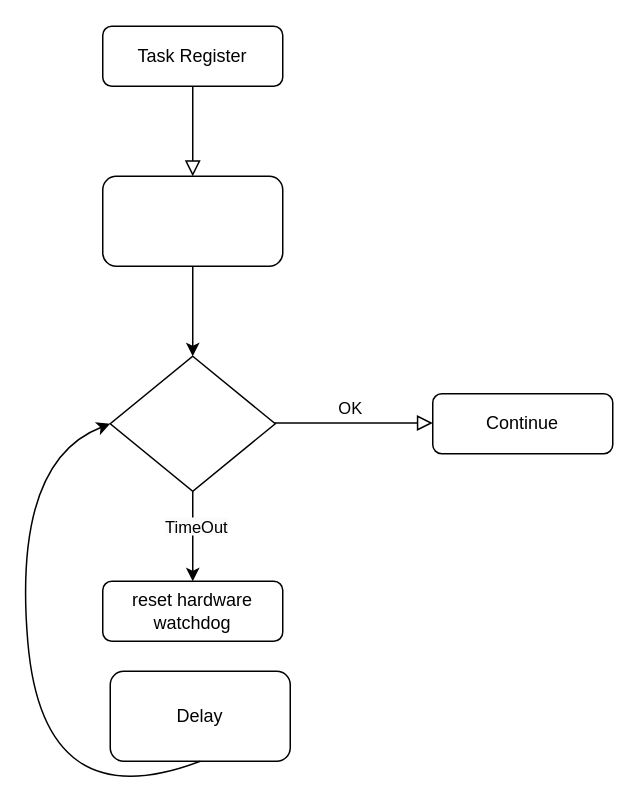
Some shapes in this 641 by 803 pixel diagram are drawn without their labels. The box of each missing label's shape, as (x1, y1, x2, y2) in pixels:
Each task feeds watchdog: (101, 175, 283, 266)
Watchdog task checks?: (109, 355, 275, 491)
